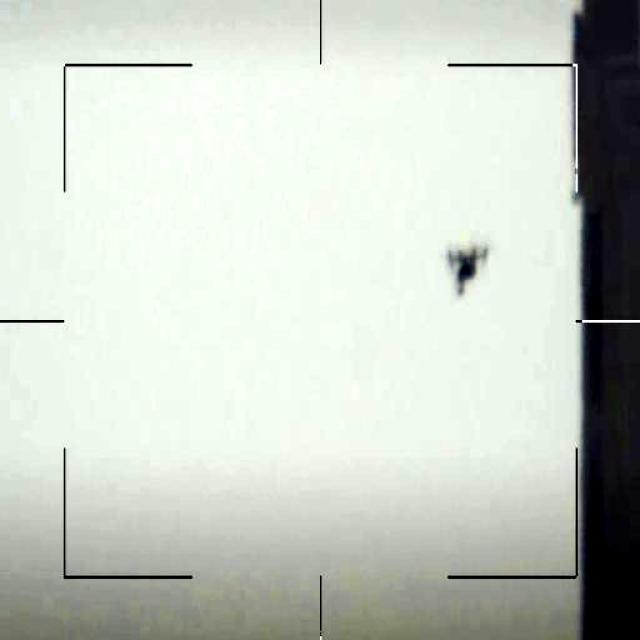bird: (438, 239, 500, 304)
